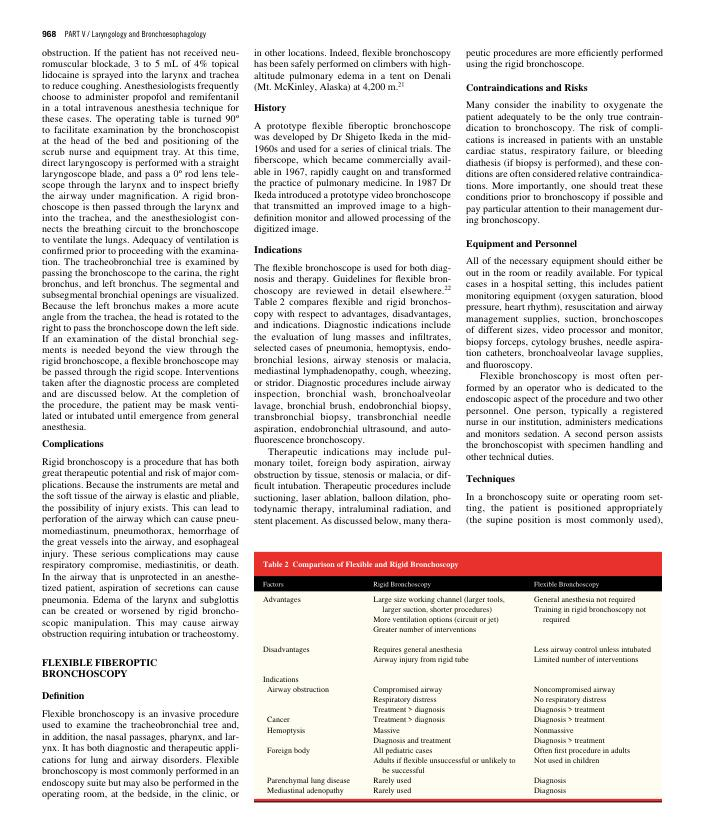caption: (262, 560, 459, 570)
header: (64, 29, 207, 40)
section-heading: (41, 657, 158, 679)
sub-section-heading: (465, 82, 589, 93), (465, 239, 579, 250), (41, 439, 105, 450), (465, 474, 516, 486), (253, 244, 304, 254), (253, 102, 287, 114), (41, 691, 85, 700)
table: (254, 575, 662, 803)
text: (41, 47, 240, 432), (252, 263, 451, 529), (465, 255, 665, 462), (41, 456, 241, 641), (465, 99, 664, 226), (253, 120, 452, 235), (40, 708, 241, 800), (252, 47, 453, 93), (465, 490, 664, 526), (464, 47, 665, 71)
